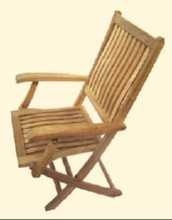obstacle: (12, 11, 163, 210)
